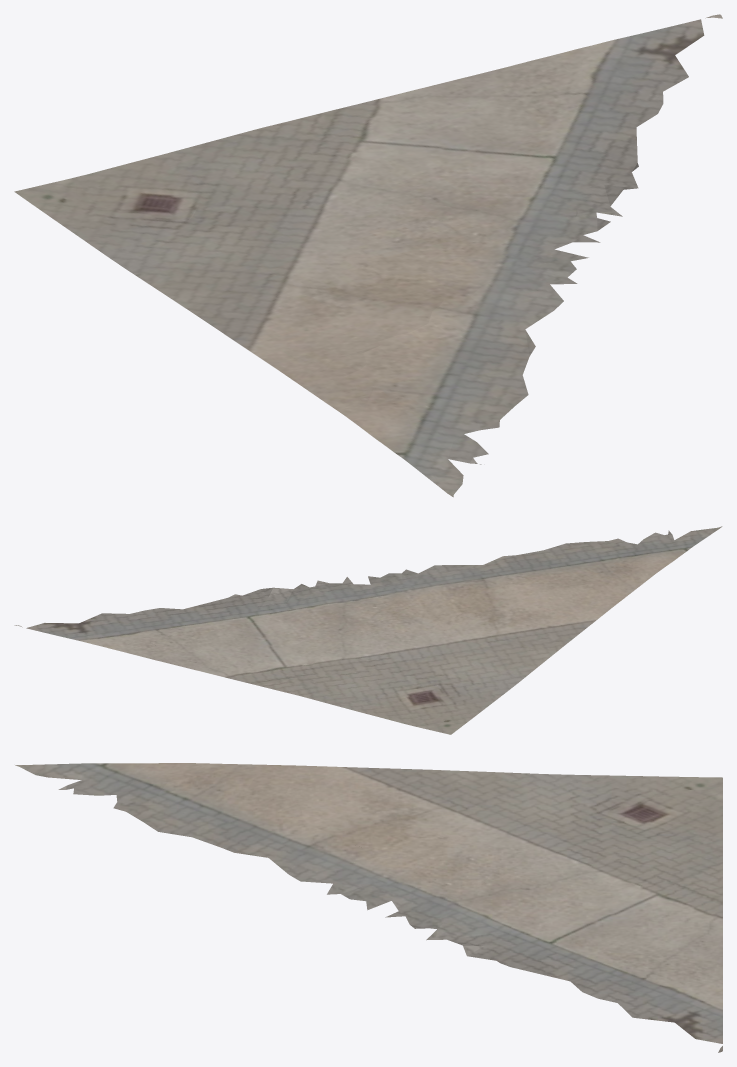
3 renders of one model, top to bottom at view 1: azimuth 30°, elevation 25°; view 2: azimuth 150°, elevation 25°; view 3: azimuth 270°, elevation 25°, orthographic. The views are drawn at different scales.
Size of the model in its own units: 5.63 by 0.148 by 6.06.
1 material, 1 textured.
